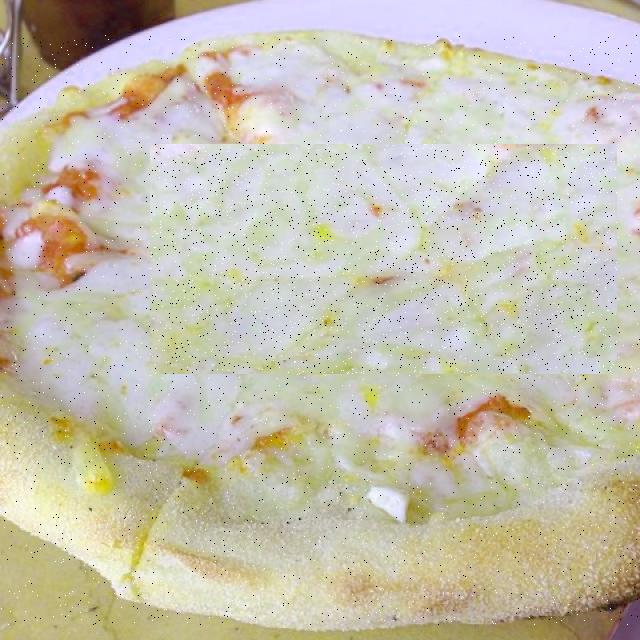Cheese: (150, 144, 617, 374)
Pizza: (0, 35, 640, 625)
